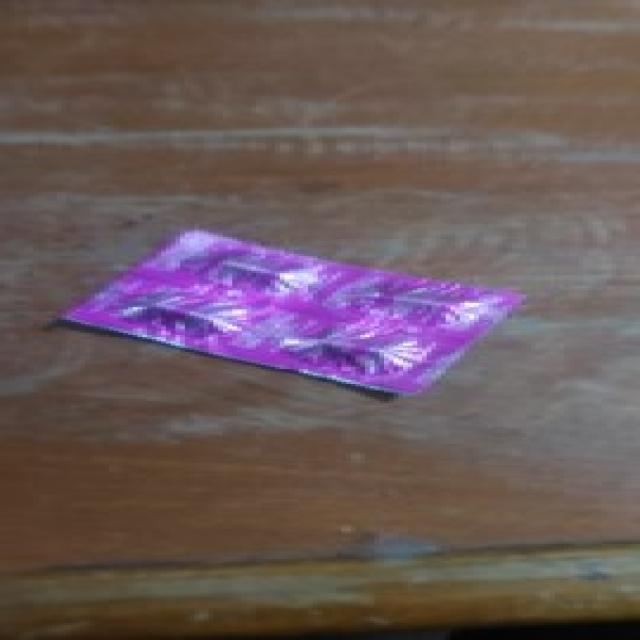Cacat: (64, 226, 529, 393)
